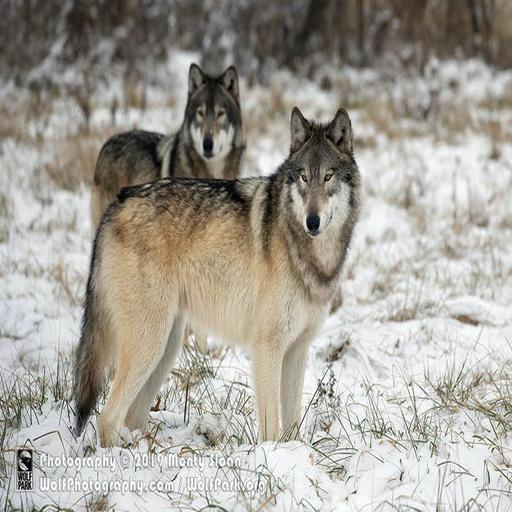Wolf: (66, 107, 368, 453), (83, 61, 255, 356)
